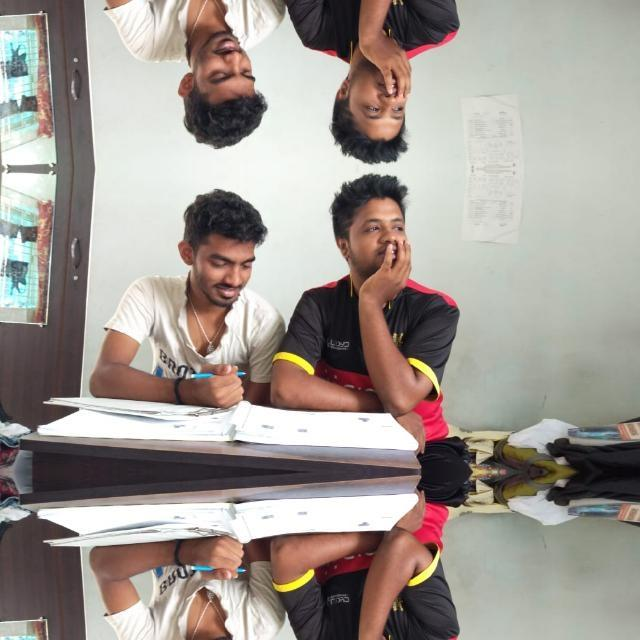person: (278, 172, 472, 456), (96, 169, 284, 409), (277, 0, 472, 164), (96, 0, 284, 167), (277, 486, 472, 640), (96, 534, 284, 640)
